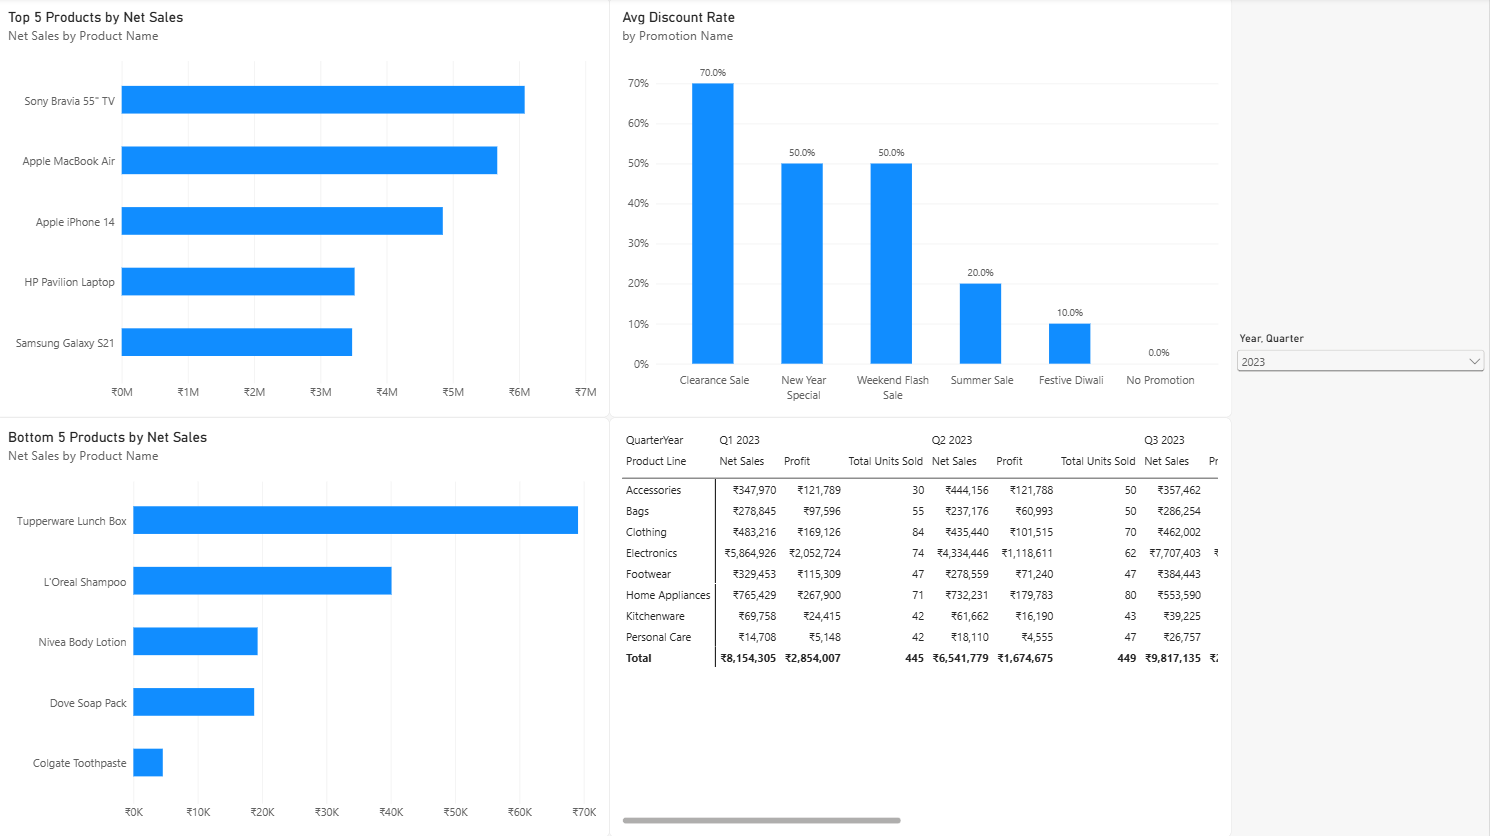

What the dashboard file says about the page in this screenshot:
{"tool":"powerbi","page":{"name":"Product & Promotion","canvas":[1920,1080],"ordinal":1},"visuals":[{"type":"clusteredBarChart","title":"Top 5 Products by Net Sales","fields":{"Category":["Dim Product.Product Name"],"Y":["_Measures.Net Sales"]},"box":[0,0,790,540],"z":0},{"type":"clusteredBarChart","title":"Bottom 5 Products by Net Sales","fields":{"Category":["Dim Product.Product Name"],"Y":["_Measures.Net Sales"]},"box":[0,540,790,540],"z":1},{"type":"clusteredColumnChart","fields":{"Category":["Dim Promotion.Promotion Name"],"Y":["_Measures.Avg Discount Rate"]},"box":[789.5,0,800.5,540.4],"z":2},{"type":"pivotTable","fields":{"Columns":["DimDate.QuarterYear"],"Rows":["Dim Product.Product Line"],"Values":["_Measures.Net Sales","_Measures.Profit","_Measures.Total Units Sold"]},"box":[790,540,800,540],"z":4},{"type":"slicer","fields":{"Values":["DimDate.Year","DimDate.Quarter"]},"box":[1591.8,430.5,327.9,219.8],"z":5}]}

Visuals, with their boxes in screenshot pixels (x1, y1, x2, y2), scaled from the page's 1920x1080 canvas onto the 1490x836 screenshot:
"Top 5 Products by Net Sales" clusteredBarChart: 0, 0, 613, 418
"Bottom 5 Products by Net Sales" clusteredBarChart: 0, 418, 613, 835
clusteredColumnChart - Dim Promotion.Promotion Name x _Measures.Avg Discount Rate: 613, 0, 1234, 418
pivotTable - DimDate.QuarterYear x Dim Product.Product Line: 613, 418, 1234, 835
slicer - DimDate.Year x DimDate.Quarter: 1235, 333, 1489, 503
